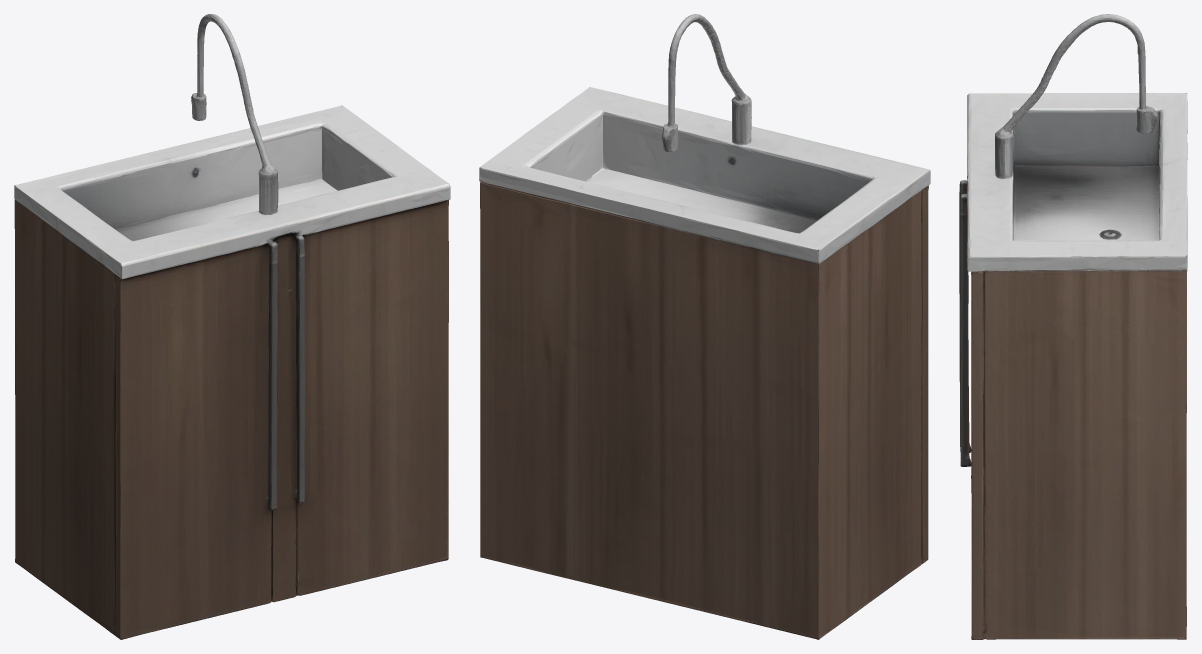
File: 041c88ec-561b-4edf-b4e9-d977cda7e34b.glb
3 views of the same model, side by side, from view 1: azimuth 30°, elevation 25°; view 2: azimuth 150°, elevation 25°; view 3: azimuth 270°, elevation 25° (orthographic). The views are drawn at different scales.
Parts seen in each view (by area): view 1: world; view 2: world; view 3: world.
Boxes of the visible parts, bbox=[...] form: world: bbox=[14, 14, 450, 639]; world: bbox=[479, 14, 930, 639]; world: bbox=[959, 14, 1187, 639].
Size of the model in its own units: 0.6447 by 1 by 0.3803.
Materials: 1 (1 with a texture image).
